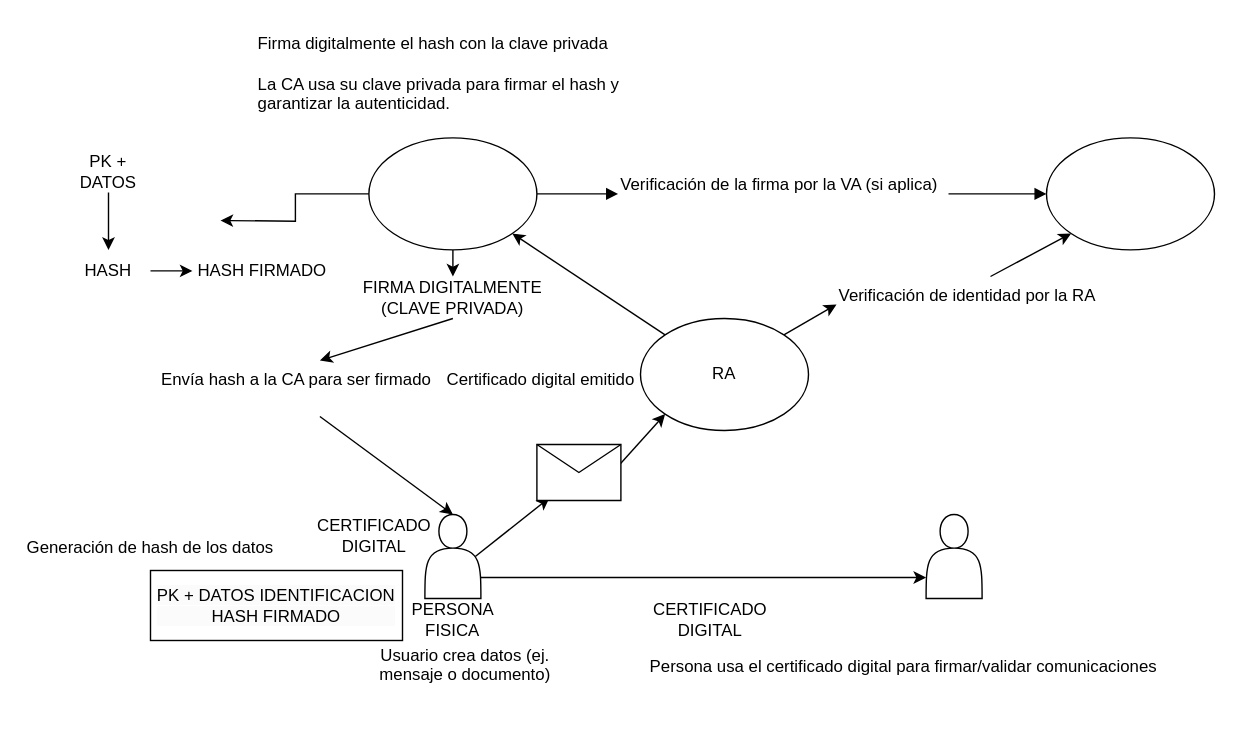
This 1239x749 diagram has some shape labels left out. Here are the shapes that lost their labels. From the top down, the box of each, then its label:
(368, 136, 537, 250): CA
(1045, 136, 1214, 250): VA
